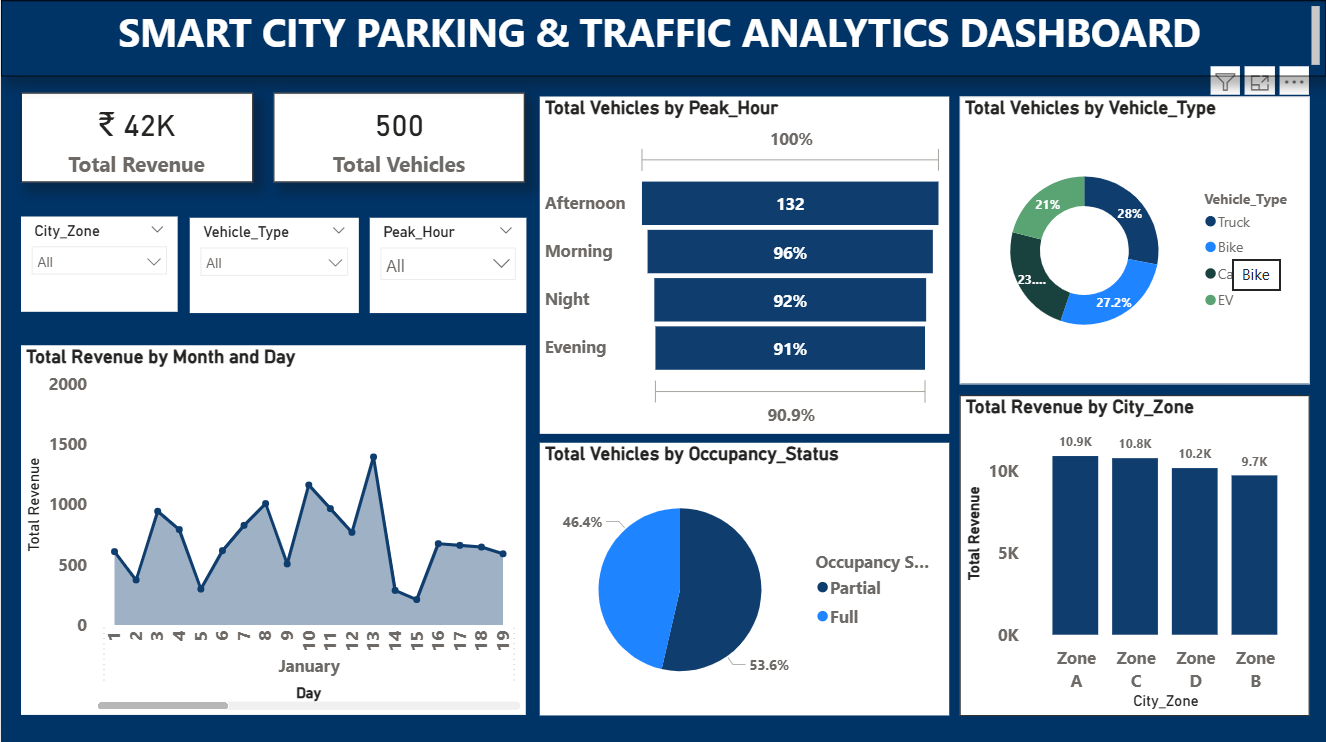

What the dashboard file says about the page in this screenshot:
{"tool":"powerbi","page":{"name":"Page 1","canvas":[1280,720],"ordinal":0},"visuals":[{"type":"card","fields":{"Values":["Smart_City_Parking.Total Revenue"]},"box":[19.1,90.1,223.6,86.7],"z":0},{"type":"card","fields":{"Values":["Smart_City_Parking.Total Vehicles"]},"box":[263.5,90.1,242.7,86.7],"z":1000},{"type":"slicer","fields":{"Values":["Smart_City_Parking.City_Zone"]},"box":[19.1,209.8,150.8,91.9],"z":2000},{"type":"slicer","fields":{"Values":["Smart_City_Parking.Vehicle_Type"]},"box":[182,211.5,162.9,91.9],"z":3000},{"type":"slicer","fields":{"Values":["Smart_City_Parking.Peak_Hour"]},"box":[355.4,211.5,150.8,91.9],"z":4000},{"type":"clusteredColumnChart","fields":{"Category":["Smart_City_Parking.City_Zone"],"Y":["Smart_City_Parking.Total Revenue"]},"box":[925.5,382.6,337.9,309.3],"z":5000},{"type":"donutChart","fields":{"Category":["Smart_City_Parking.Vehicle_Type"],"Y":["Smart_City_Parking.Total Vehicles"]},"box":[925.5,94.4,337.9,277],"z":6000},{"type":"textbox","box":[0,1.2,1278.8,73.6],"z":7000},{"type":"lineChart","fields":{"Category":["Smart_City_Parking.Date.Variation.Date Hierarchy.Month","Smart_City_Parking.Date.Variation.Date Hierarchy.Day"],"Y":["Smart_City_Parking.Total Revenue"]},"box":[19.1,334.6,487.1,357.1],"z":8000},{"type":"pieChart","fields":{"Category":["Smart_City_Parking.Occupancy_Status"],"Y":["Smart_City_Parking.Total Vehicles"]},"box":[520.5,428.6,395,263.4],"z":9000},{"type":"funnel","fields":{"Category":["Smart_City_Parking.Peak_Hour"],"Y":["Smart_City_Parking.Total Vehicles"]},"box":[520.5,94.4,395,325.5],"z":10000}]}

Visuals, with their boxes in screenshot pixels (x1, y1, x2, y2), scaled from the page's 1280x720 canvas onto the 1326x742 screenshot:
card - Smart_City_Parking.Total Revenue: Rect(20, 93, 251, 182)
card - Smart_City_Parking.Total Vehicles: Rect(273, 93, 524, 182)
slicer - Smart_City_Parking.City_Zone: Rect(20, 216, 176, 311)
slicer - Smart_City_Parking.Vehicle_Type: Rect(189, 218, 357, 313)
slicer - Smart_City_Parking.Peak_Hour: Rect(368, 218, 524, 313)
clusteredColumnChart - Smart_City_Parking.City_Zone x Smart_City_Parking.Total Revenue: Rect(959, 394, 1309, 713)
donutChart - Smart_City_Parking.Vehicle_Type x Smart_City_Parking.Total Vehicles: Rect(959, 97, 1309, 383)
textbox: Rect(0, 1, 1325, 77)
lineChart - Smart_City_Parking.Date.Variation.Date Hierarchy.Month x Smart_City_Parking.Date.Variation.Date Hierarchy.Day: Rect(20, 345, 524, 713)
pieChart - Smart_City_Parking.Occupancy_Status x Smart_City_Parking.Total Vehicles: Rect(539, 442, 948, 713)
funnel - Smart_City_Parking.Peak_Hour x Smart_City_Parking.Total Vehicles: Rect(539, 97, 948, 433)
